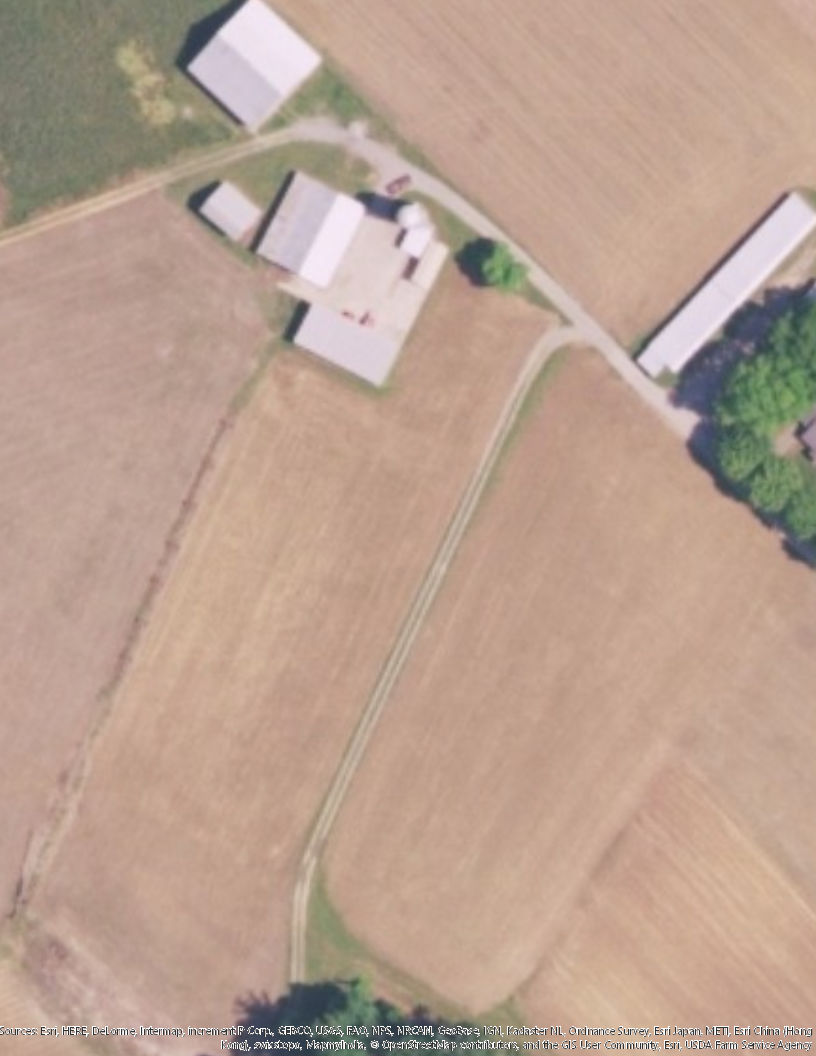cafo: (245, 162, 455, 403), (177, 1, 339, 138)
